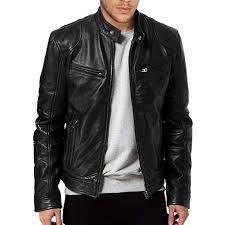jacket: (34, 6, 213, 216)
